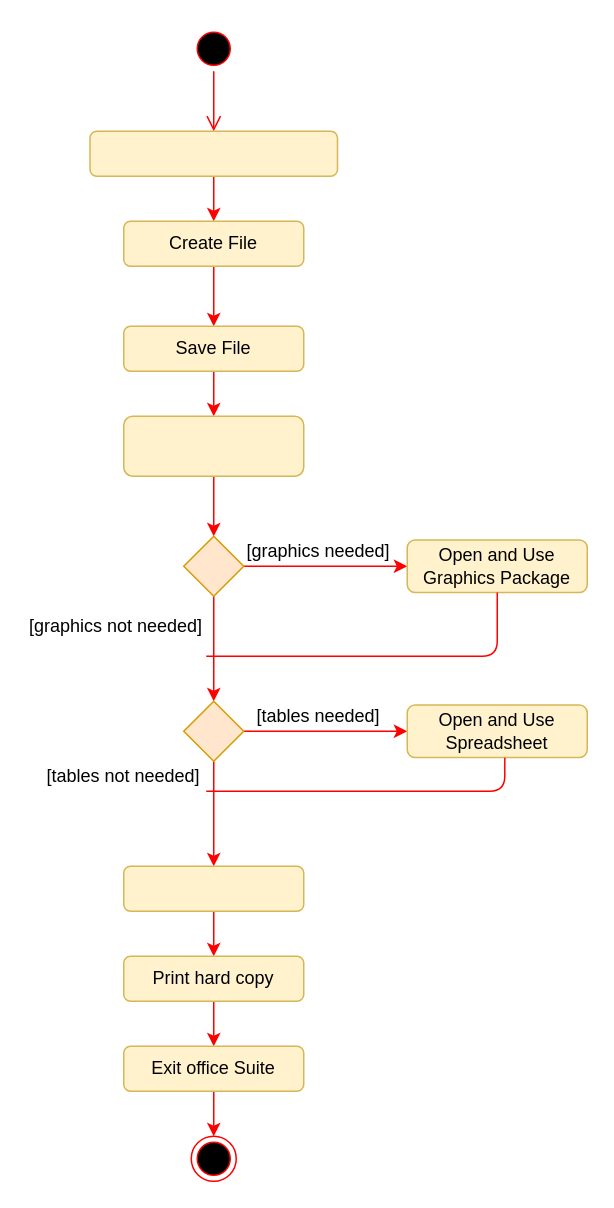
The diagram is 614 pixels wide and 1208 high, and some of its shapes have lost their labels. The shapes that lost their labels are listed below. From the top down, each one's centre as x and y in pixels, then its label:
point 213,153: Open Word Processing Package
point 213,445: Type the Document
point 213,888: Save the file
